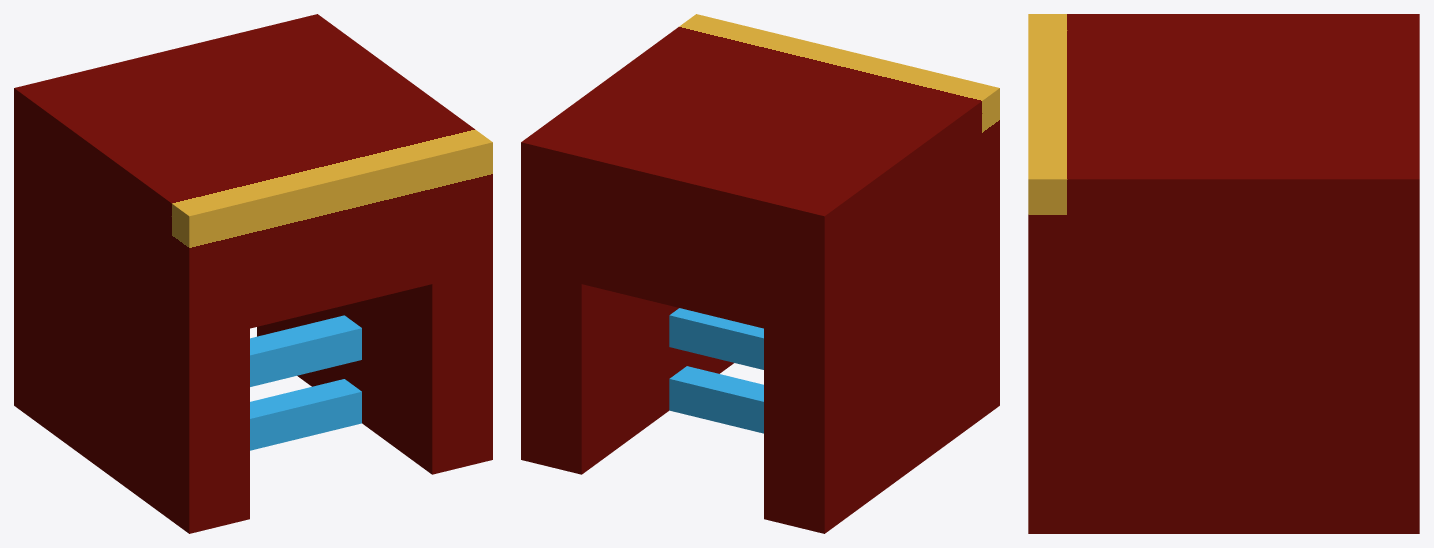
The model's file is Ziky.fbx.
3 views of the same model, side by side, from view 1: azimuth 30°, elevation 25°; view 2: azimuth 150°, elevation 25°; view 3: azimuth 270°, elevation 25° (orthographic). The views are drawn at different scales.
Visible parts, largest first — view 1: Ziky; view 2: Ziky; view 3: Ziky.
Boxes of the visible parts, box(x1,y1,x2,y2) form: Ziky: box(14, 14, 492, 533); Ziky: box(521, 14, 999, 533); Ziky: box(1028, 14, 1419, 533).
Size of the model in its own units: 10 by 10 by 10.
1 material, 1 textured.
